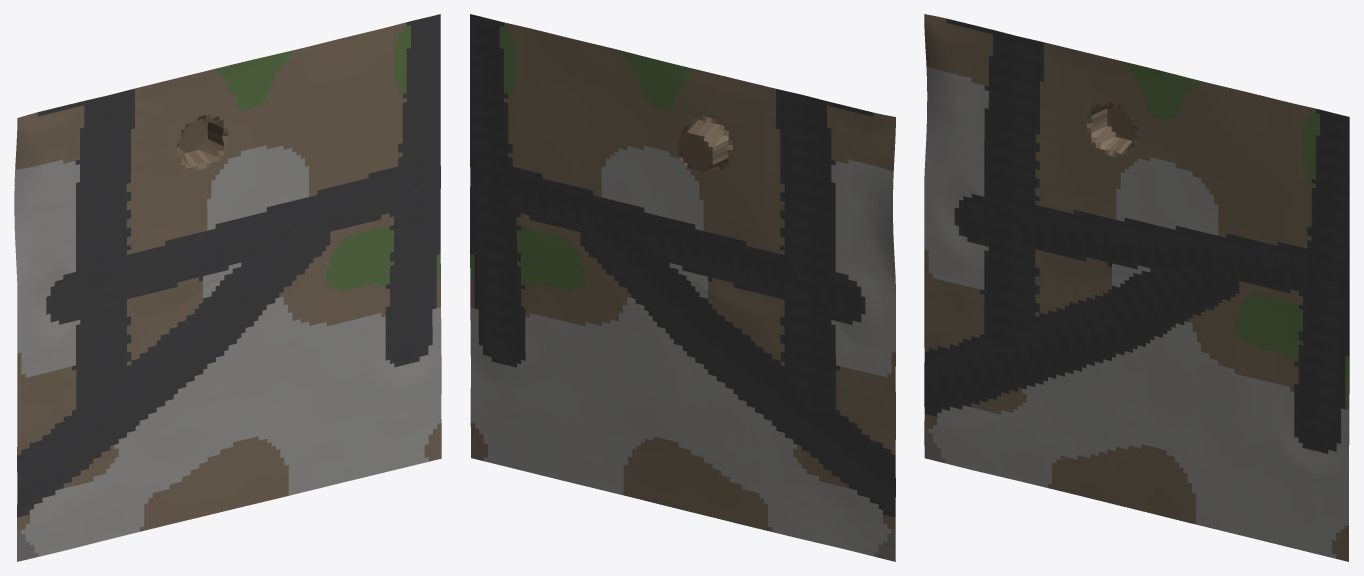
The model's file is SARM_SAR_Terrain_04_01.glb.
3 views of the same model, side by side, from view 1: azimuth 30°, elevation 25°; view 2: azimuth 150°, elevation 25°; view 3: azimuth 330°, elevation 25° (orthographic).
Visible parts, largest first — view 1: SAR_Terrain_04_01.001; view 2: SAR_Terrain_04_01.001; view 3: SAR_Terrain_04_01.001.
Boxes of the visible parts, box(x1,y1,x2,y2) form: SAR_Terrain_04_01.001: box(14, 14, 441, 561); SAR_Terrain_04_01.001: box(470, 14, 895, 561); SAR_Terrain_04_01.001: box(924, 14, 1349, 561).
Size of the model in its own units: 50 by 50 by 2.76.
